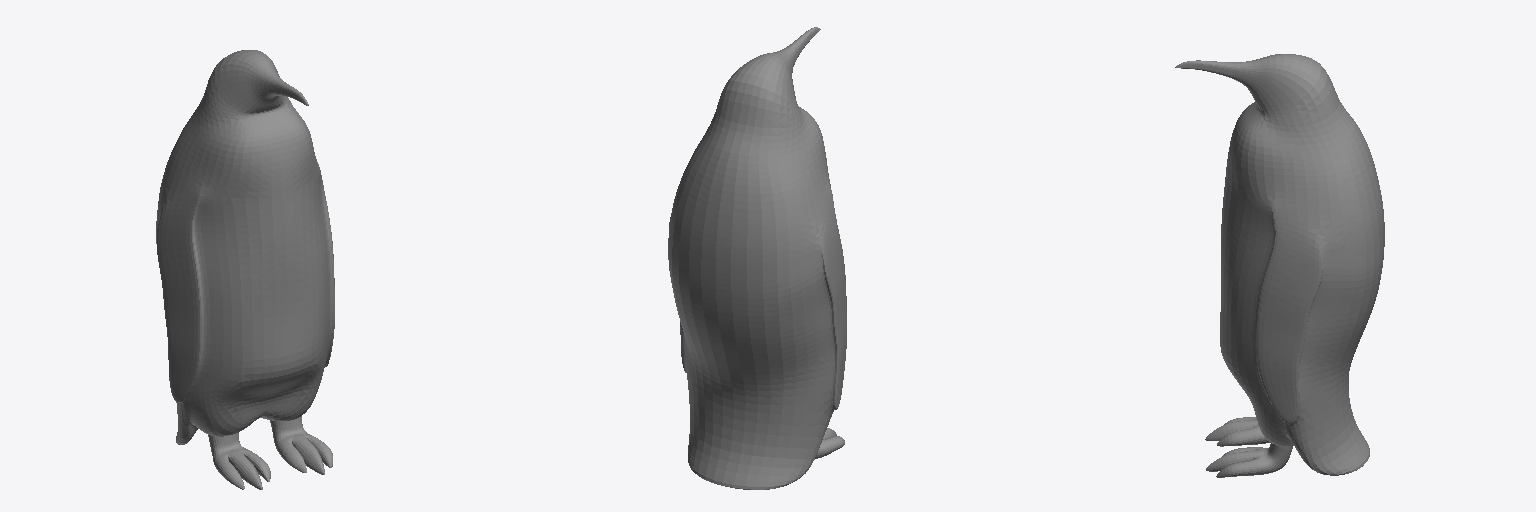
The model's file is penguin.obj.
3 renders of one model, left to right at view 1: azimuth 30°, elevation 25°; view 2: azimuth 150°, elevation 25°; view 3: azimuth 270°, elevation 25°, orthographic.
Parts seen in each view (by area): view 1: pinguin; view 2: pinguin; view 3: pinguin.
Part boxes in pixels (bbox=[...]): pinguin: bbox=[156, 50, 334, 489]; pinguin: bbox=[668, 27, 846, 489]; pinguin: bbox=[1175, 54, 1384, 477].
Bounding box in the file's own units: 43.35 × 103 × 49.12.